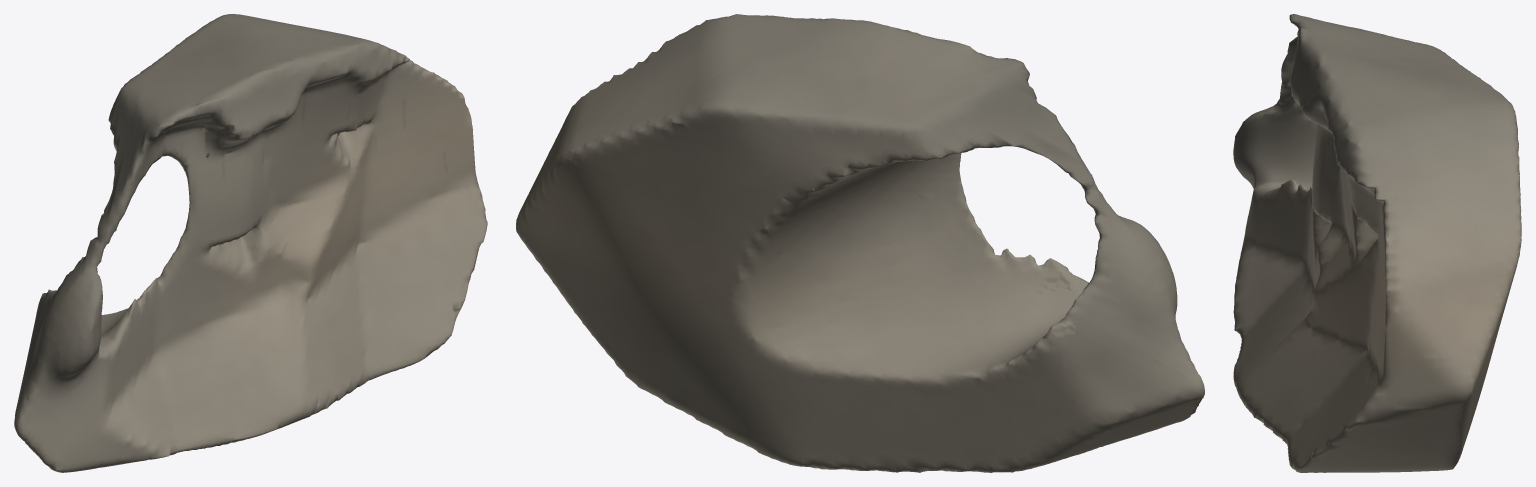
The model's file is elephant-artistic-surface-ba-p2.glb.
3 views of the same model, side by side, from view 1: azimuth 30°, elevation 25°; view 2: azimuth 150°, elevation 25°; view 3: azimuth 270°, elevation 25° (orthographic). The views are drawn at different scales.
Visible parts, largest first — view 1: Elephant BA surface p2 - same p1 geometry and UV; view 2: Elephant BA surface p2 - same p1 geometry and UV; view 3: Elephant BA surface p2 - same p1 geometry and UV.
Boxes of the visible parts, x1,y1,x2,y2 form: Elephant BA surface p2 - same p1 geometry and UV: [14, 14, 487, 472]; Elephant BA surface p2 - same p1 geometry and UV: [516, 14, 1204, 472]; Elephant BA surface p2 - same p1 geometry and UV: [1233, 14, 1521, 472].
Size of the model in its own units: 239 by 154 by 107.
Materials: 1 (1 with a texture image).
